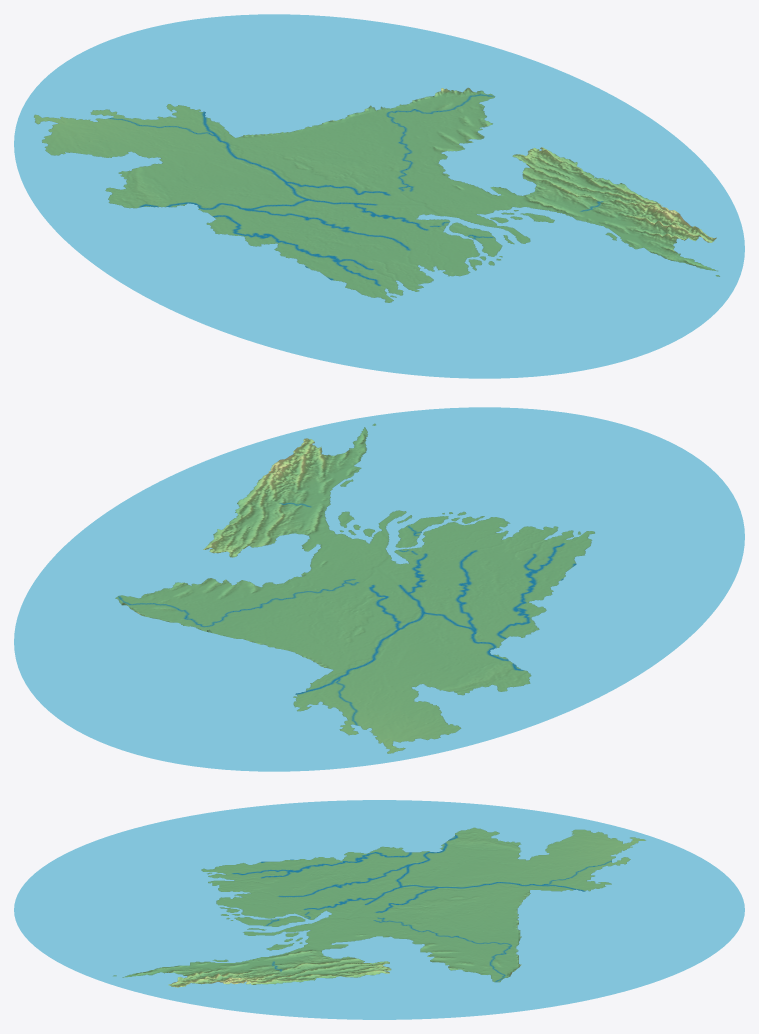
File: BGD-terrain.glb
3 views of the same model, one above another, from view 1: azimuth 30°, elevation 25°; view 2: azimuth 150°, elevation 25°; view 3: azimuth 270°, elevation 25° (orthographic). The views are drawn at different scales.
Visible parts, largest first — view 1: Relevo com hidrografia; view 2: Relevo com hidrografia; view 3: Relevo com hidrografia.
Part boxes in pixels (box(x1,y1,x2,y2)): Relevo com hidrografia: box(14, 14, 744, 378); Relevo com hidrografia: box(14, 407, 744, 771); Relevo com hidrografia: box(14, 800, 744, 1019).
Bounding box in the file's own units: 1.56 × 0.0264 × 2.2.
Materials: 2 (1 with a texture image).
